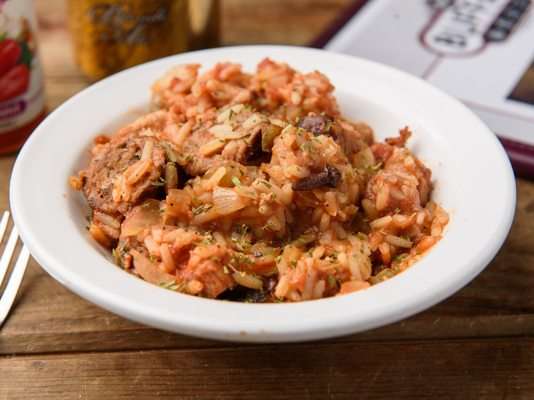pizza: (66, 0, 218, 80), (0, 0, 46, 153)
sushi: (18, 38, 518, 343)
